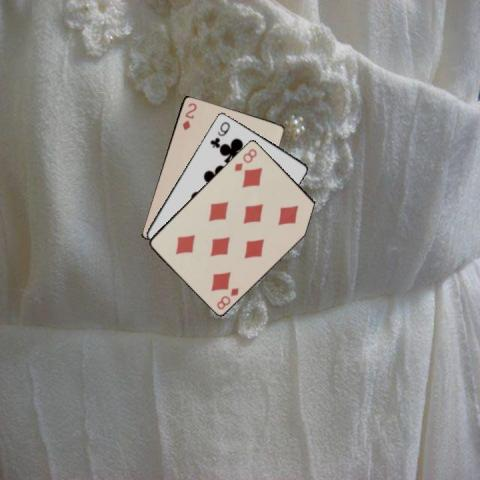2d: (179, 100, 198, 132)
8d: (231, 145, 258, 173), (214, 284, 240, 310)
9c: (207, 119, 232, 149)
